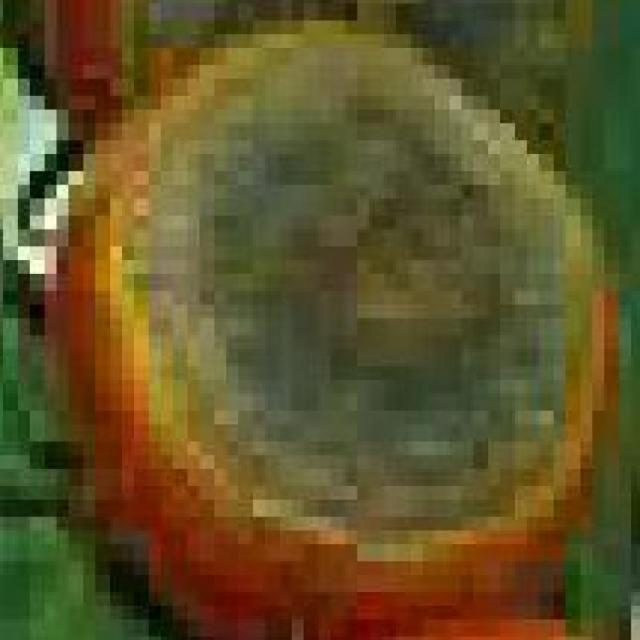Blossom End Rot Fruit: (66, 18, 386, 363)
